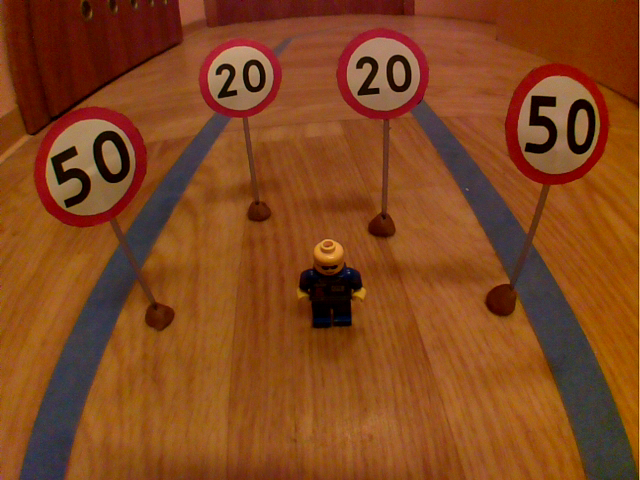Ograniczenie 20: (334, 25, 433, 124), (196, 34, 285, 122)
Ograniczenie 50: (31, 103, 153, 232), (501, 55, 613, 190)
Postac LEGO: (293, 234, 370, 336)
